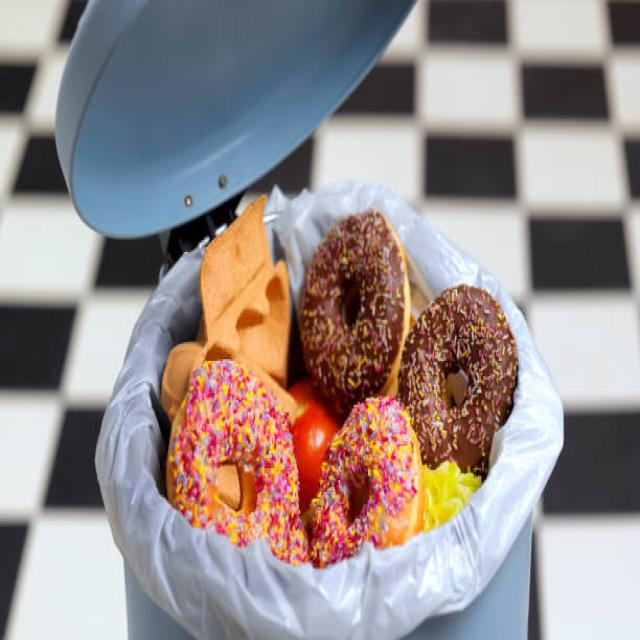trash: (175, 257, 511, 552)
